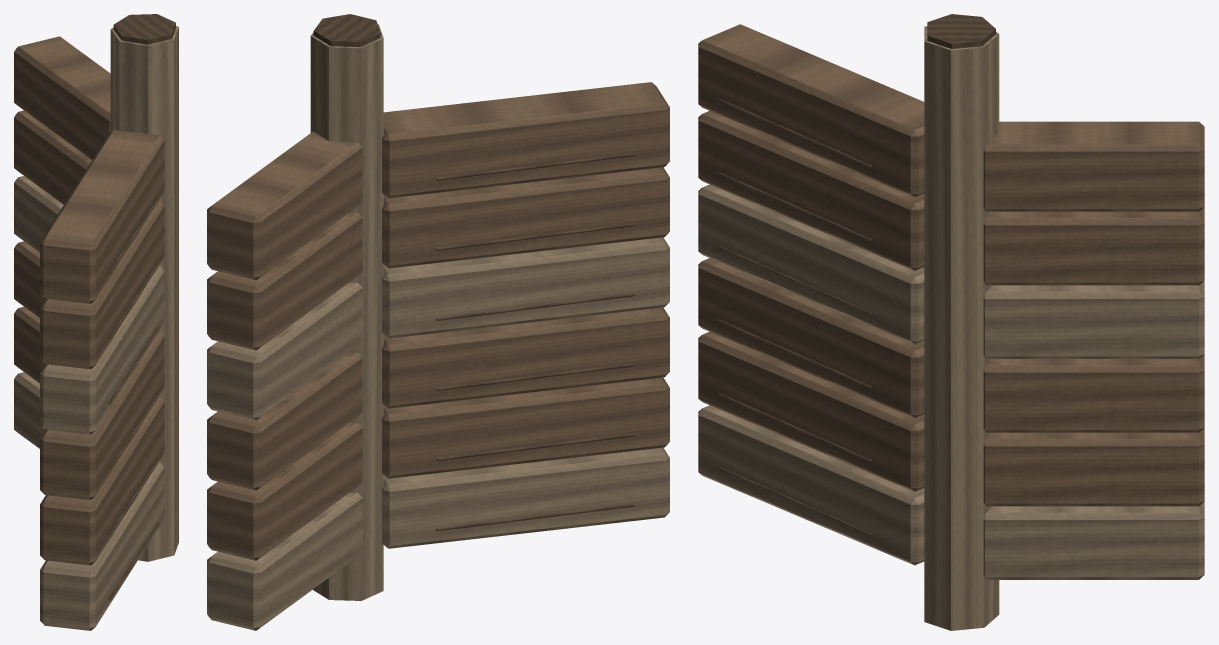
File: wall_mask_144.glb
3 renders of one model, left to right at view 1: azimuth 30°, elevation 25°; view 2: azimuth 150°, elevation 25°; view 3: azimuth 270°, elevation 25°, orthographic. The views are drawn at different scales.
Visible parts, largest first — view 1: wall_mask_144__Weathered_timber, wall_mask_144__Timber_worn_edges, wall_mask_144__Dark_endgrain; view 2: wall_mask_144__Weathered_timber, wall_mask_144__Timber_worn_edges, wall_mask_144__Dark_endgrain; view 3: wall_mask_144__Weathered_timber, wall_mask_144__Timber_worn_edges, wall_mask_144__Dark_endgrain.
Boxes of the visible parts, box(x1,y1,x2,y2) form: wall_mask_144__Weathered_timber: box(14, 36, 164, 565); wall_mask_144__Timber_worn_edges: box(14, 26, 178, 630); wall_mask_144__Dark_endgrain: box(109, 14, 175, 600); wall_mask_144__Weathered_timber: box(207, 82, 669, 560); wall_mask_144__Timber_worn_edges: box(207, 24, 669, 630); wall_mask_144__Dark_endgrain: box(313, 14, 635, 531); wall_mask_144__Weathered_timber: box(698, 24, 1204, 506); wall_mask_144__Timber_worn_edges: box(698, 26, 1204, 630); wall_mask_144__Dark_endgrain: box(718, 14, 995, 535).
Size of the model in its own units: 0.6463 by 1.39 by 1.09.
3 materials, 3 textured.
